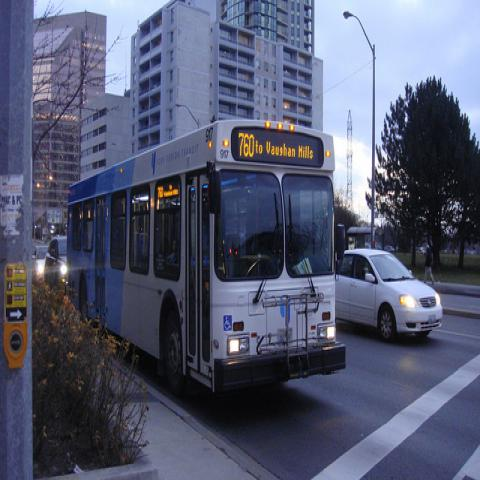bus: (65, 120, 346, 399)
car: (338, 250, 442, 336), (44, 235, 68, 288), (32, 245, 50, 286)
